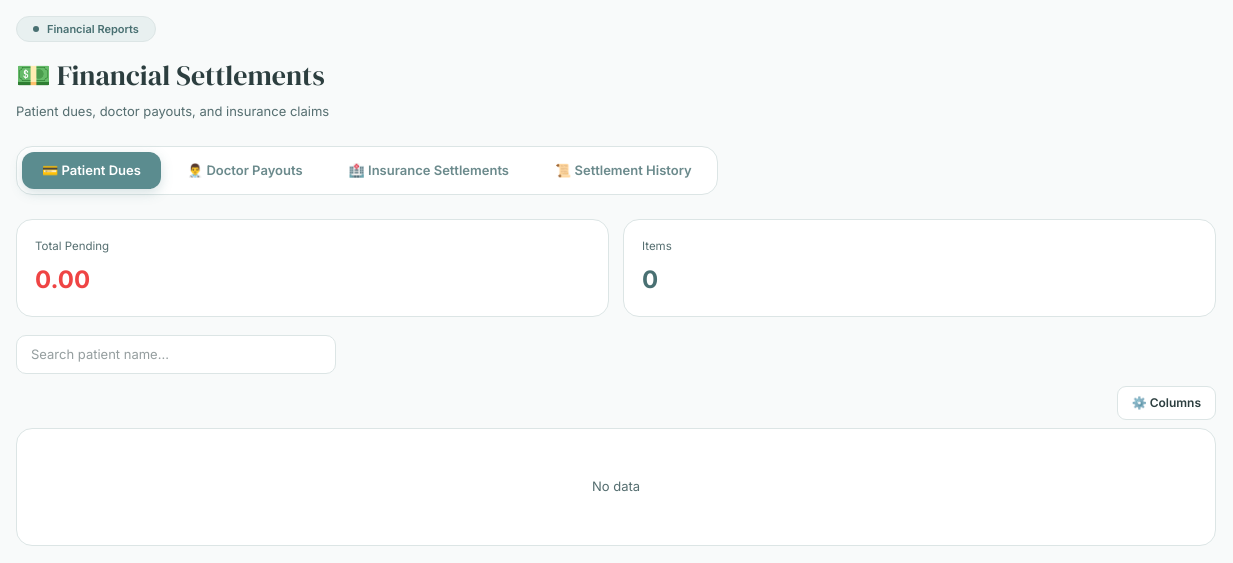
Test case: Settlements › loads settlement history
Expected: the text "No data" is shown, [592,478,640,494]
Click the button "📜 Settlement History": (623, 171) [535,152,712,189]
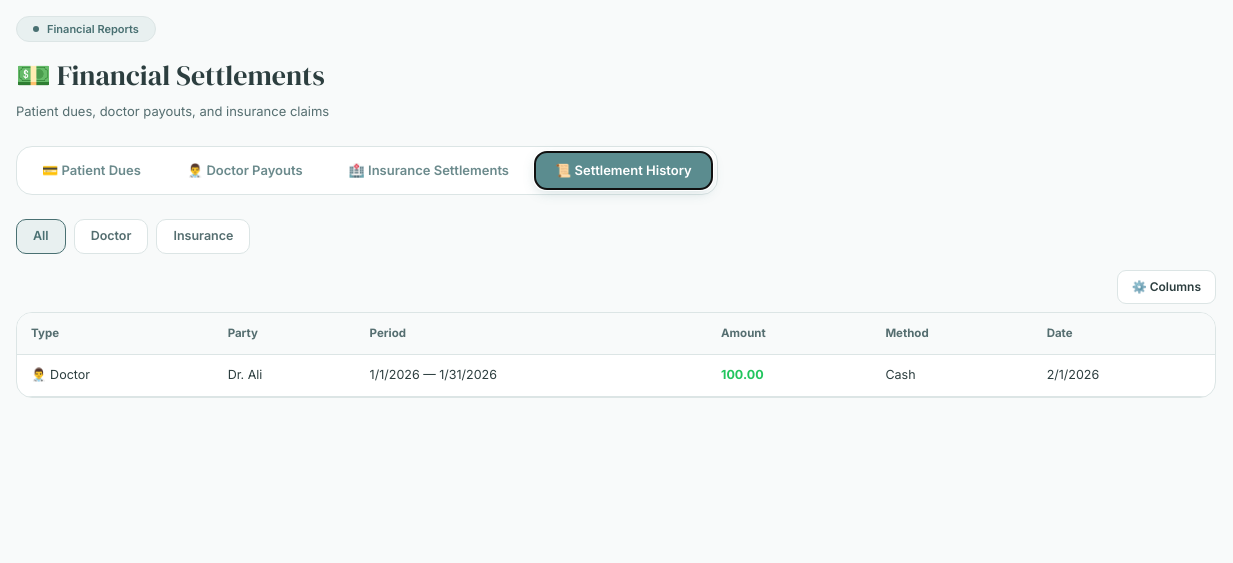
Now the text "Dr. Ali" is shown, box [214,355,356,397]
